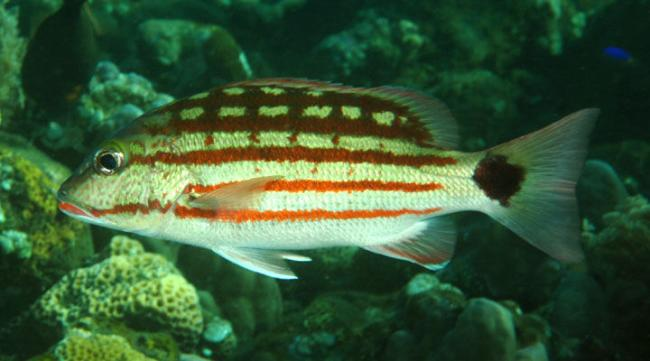fish: (56, 77, 603, 281)
